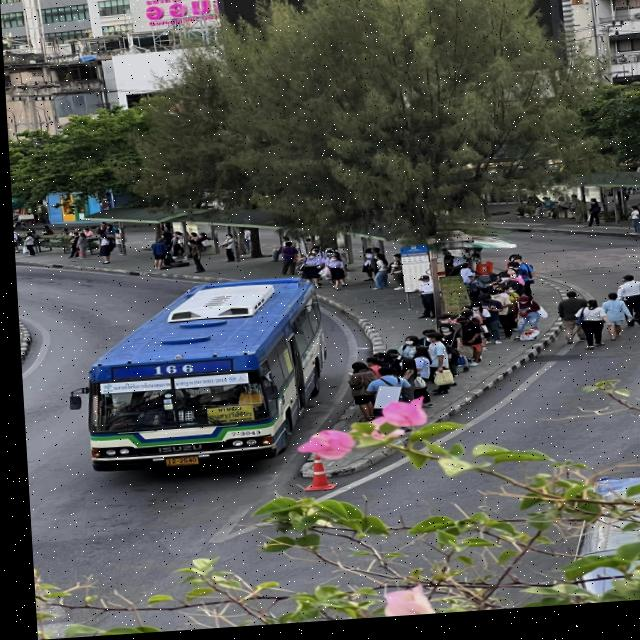BMTA-bus: (74, 277, 328, 475)
Bus-Line-Number: (144, 363, 195, 380)
Destination-Sign-Normal-Expressway: (202, 407, 250, 427)
